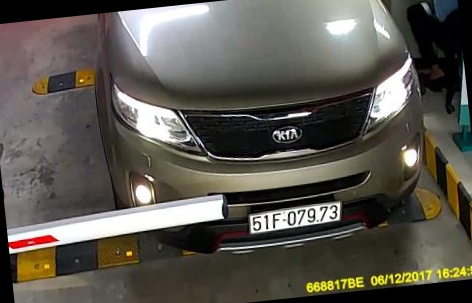plate: (233, 196, 356, 233)
